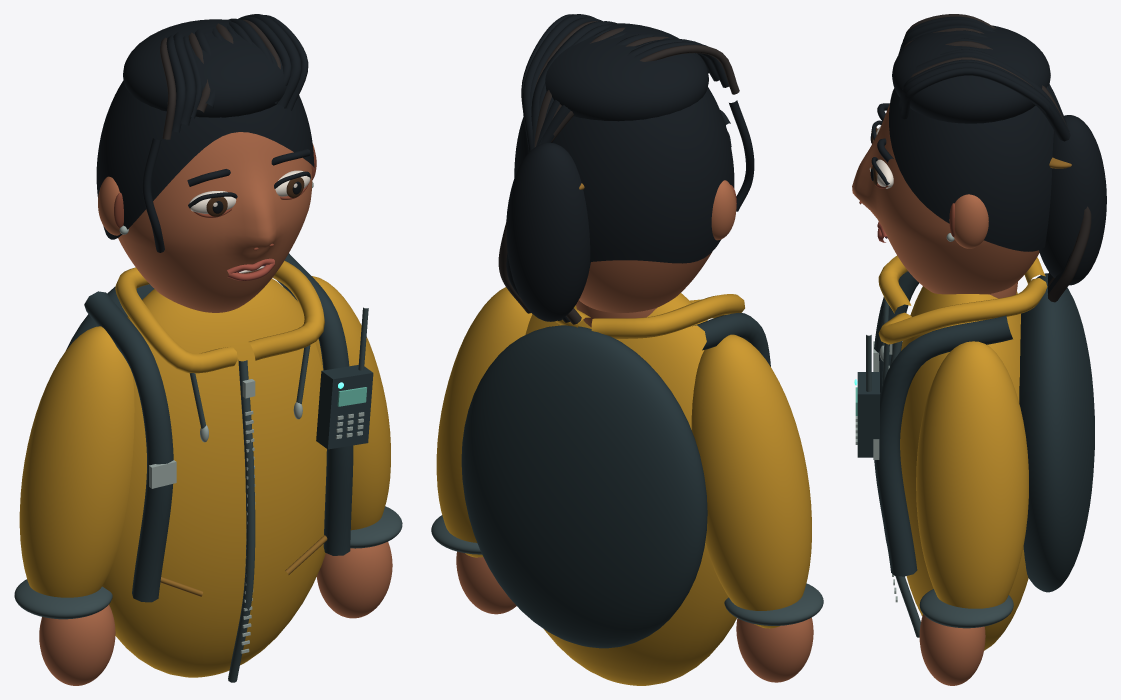
File: tara-naik.glb
3 renders of one model, left to right at view 1: azimuth 30°, elevation 25°; view 2: azimuth 150°, elevation 25°; view 3: azimuth 270°, elevation 25°, orthographic. The views are drawn at different scales.
Parts seen in each view (by area): view 1: Raincoat, Sleeve (×2), Face, Backpack_strap (×2), Hair_cap, Hand (×2), Swept_crown, Hood_fold (×2), Swept_lock (×6), Radio_case, Cuff (×2), Zip (+4 smaller); view 2: Backpack, Sleeve (×2), Hair_cap, Raincoat, Ponytail_volume, Swept_crown, Hand (×2), Swept_lock (×6), Face, Hood_fold, Cuff (×2), Backpack_strap (+4 smaller); view 3: Sleeve, Backpack, Hair_cap, Face, Backpack_strap (×2), Swept_crown, Raincoat, Ponytail_volume, Hood_fold (×2), Swept_lock (×4), Hand, Cuff (+4 smaller).
Boxes of the visible parts, x1=… form: Raincoat: x1=102, y1=278, x2=326, y2=677; Sleeve (×2): x1=19, y1=276, x2=390, y2=597; Face: x1=118, y1=132, x2=312, y2=312; Backpack_strap (×2): x1=84, y1=253, x2=353, y2=602; Hair_cap: x1=96, y1=33, x2=314, y2=239; Hand (×2): x1=39, y1=542, x2=392, y2=685; Swept_crown: x1=123, y1=19, x2=286, y2=117; Hood_fold (×2): x1=115, y1=260, x2=324, y2=373; Swept_lock (×6): x1=160, y1=14, x2=308, y2=139; Radio_case: x1=316, y1=365, x2=373, y2=449; Cuff (×2): x1=14, y1=506, x2=402, y2=619; Zip: x1=228, y1=360, x2=255, y2=682; Backpack: x1=461, y1=325, x2=707, y2=648; Sleeve (×2): x1=436, y1=287, x2=811, y2=628; Hair_cap: x1=514, y1=37, x2=734, y2=263; Raincoat: x1=525, y1=293, x2=736, y2=685; Ponytail_volume: x1=506, y1=142, x2=590, y2=321; Swept_crown: x1=545, y1=23, x2=708, y2=121; Hand (×2): x1=456, y1=551, x2=813, y2=682; Swept_lock (×6): x1=522, y1=14, x2=739, y2=152; Face: x1=579, y1=252, x2=711, y2=312; Hood_fold: x1=591, y1=294, x2=744, y2=338; Cuff (×2): x1=431, y1=515, x2=823, y2=625; Backpack_strap: x1=692, y1=312, x2=770, y2=366; Sleeve: x1=916, y1=341, x2=1028, y2=608; Backpack: x1=1019, y1=273, x2=1094, y2=592; Hair_cap: x1=889, y1=35, x2=1053, y2=251; Face: x1=852, y1=104, x2=1039, y2=294; Backpack_strap (×2): x1=874, y1=271, x2=1012, y2=576; Swept_crown: x1=892, y1=25, x2=1050, y2=123; Raincoat: x1=900, y1=286, x2=1028, y2=650; Ponytail_volume: x1=1039, y1=115, x2=1106, y2=285; Hood_fold (×2): x1=878, y1=255, x2=1047, y2=344; Swept_lock (×4): x1=898, y1=19, x2=1070, y2=141; Hand: x1=919, y1=614, x2=985, y2=685; Cuff: x1=919, y1=589, x2=1013, y2=628.
Bounding box in the file's own units: 1.76 × 2.87 × 1.08.
